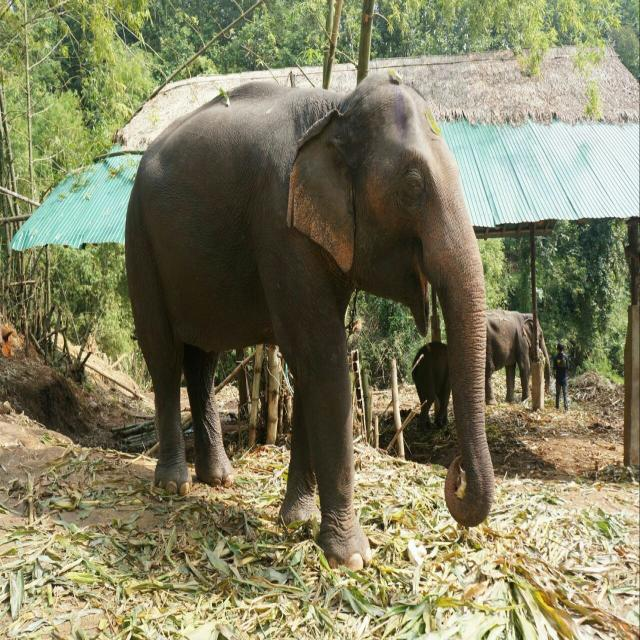Elephant: (122, 57, 500, 586)
